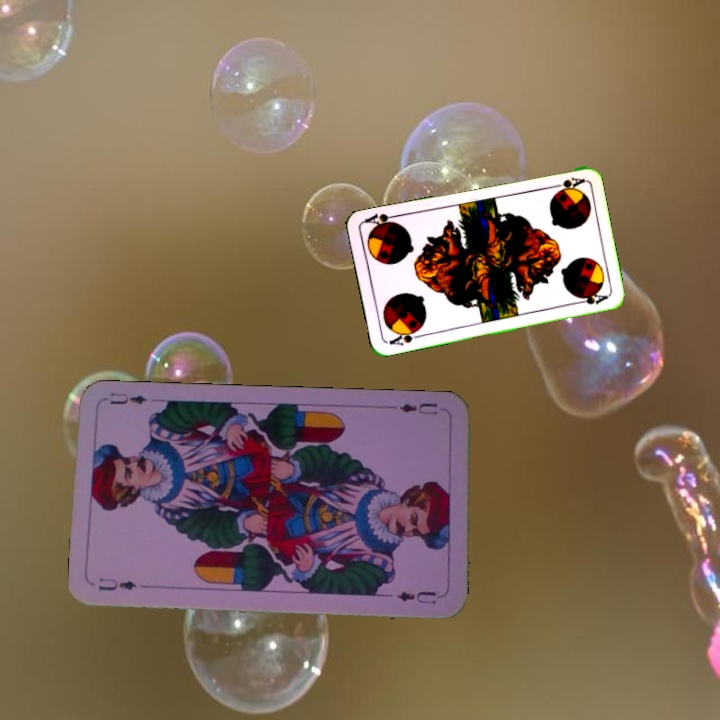EU: (396, 398, 440, 418), (94, 574, 140, 593)
SA: (385, 325, 425, 348), (546, 173, 586, 194)
